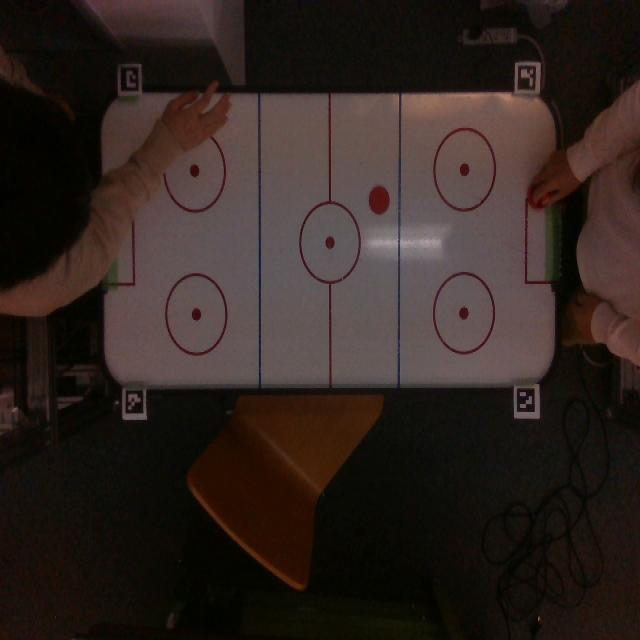puck: (368, 186, 390, 215)
